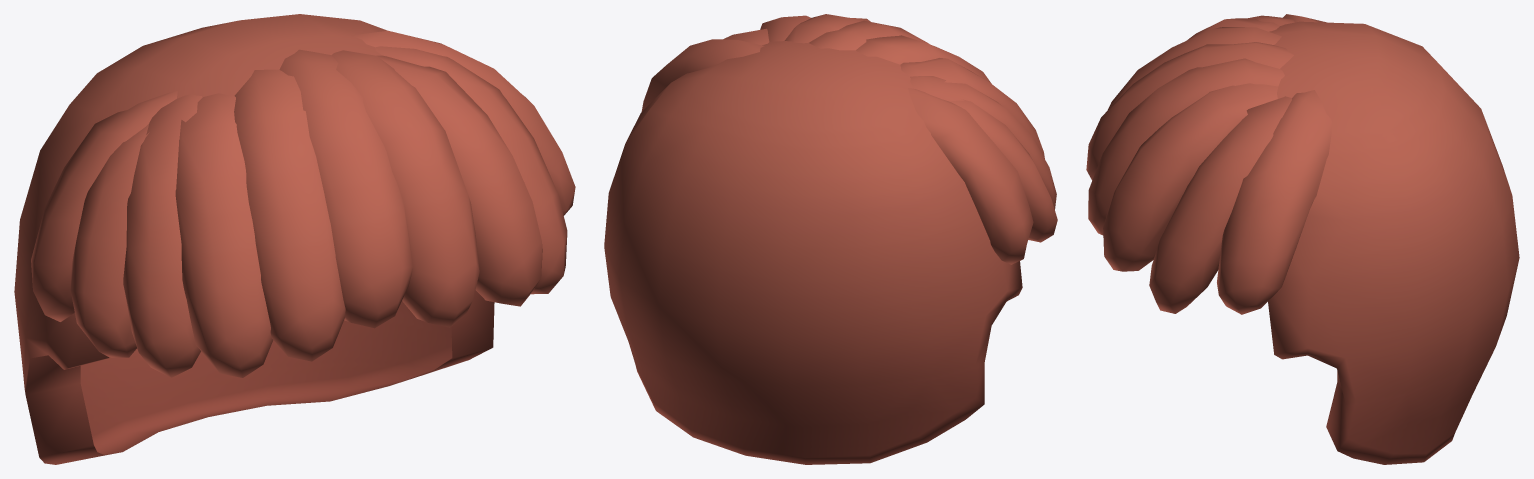
File: Hairstyle_Male_02.glb
3 views of the same model, side by side, from view 1: azimuth 30°, elevation 25°; view 2: azimuth 150°, elevation 25°; view 3: azimuth 270°, elevation 25° (orthographic). The views are drawn at different scales.
Visible parts, largest first — view 1: Hairstyle_Male_02; view 2: Hairstyle_Male_02; view 3: Hairstyle_Male_02.
Part boxes in pixels (x1=…): Hairstyle_Male_02: x1=14, y1=14, x2=575, y2=464; Hairstyle_Male_02: x1=604, y1=14, x2=1057, y2=464; Hairstyle_Male_02: x1=1086, y1=14, x2=1519, y2=464.
Size of the model in its own units: 0.6338 by 0.5284 by 0.5652.
Materials: 1 (1 with a texture image).
